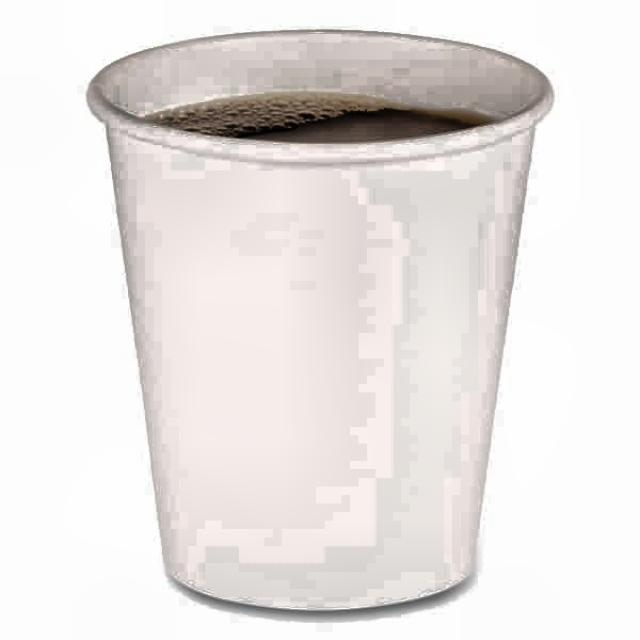Cup: (70, 11, 556, 634)
